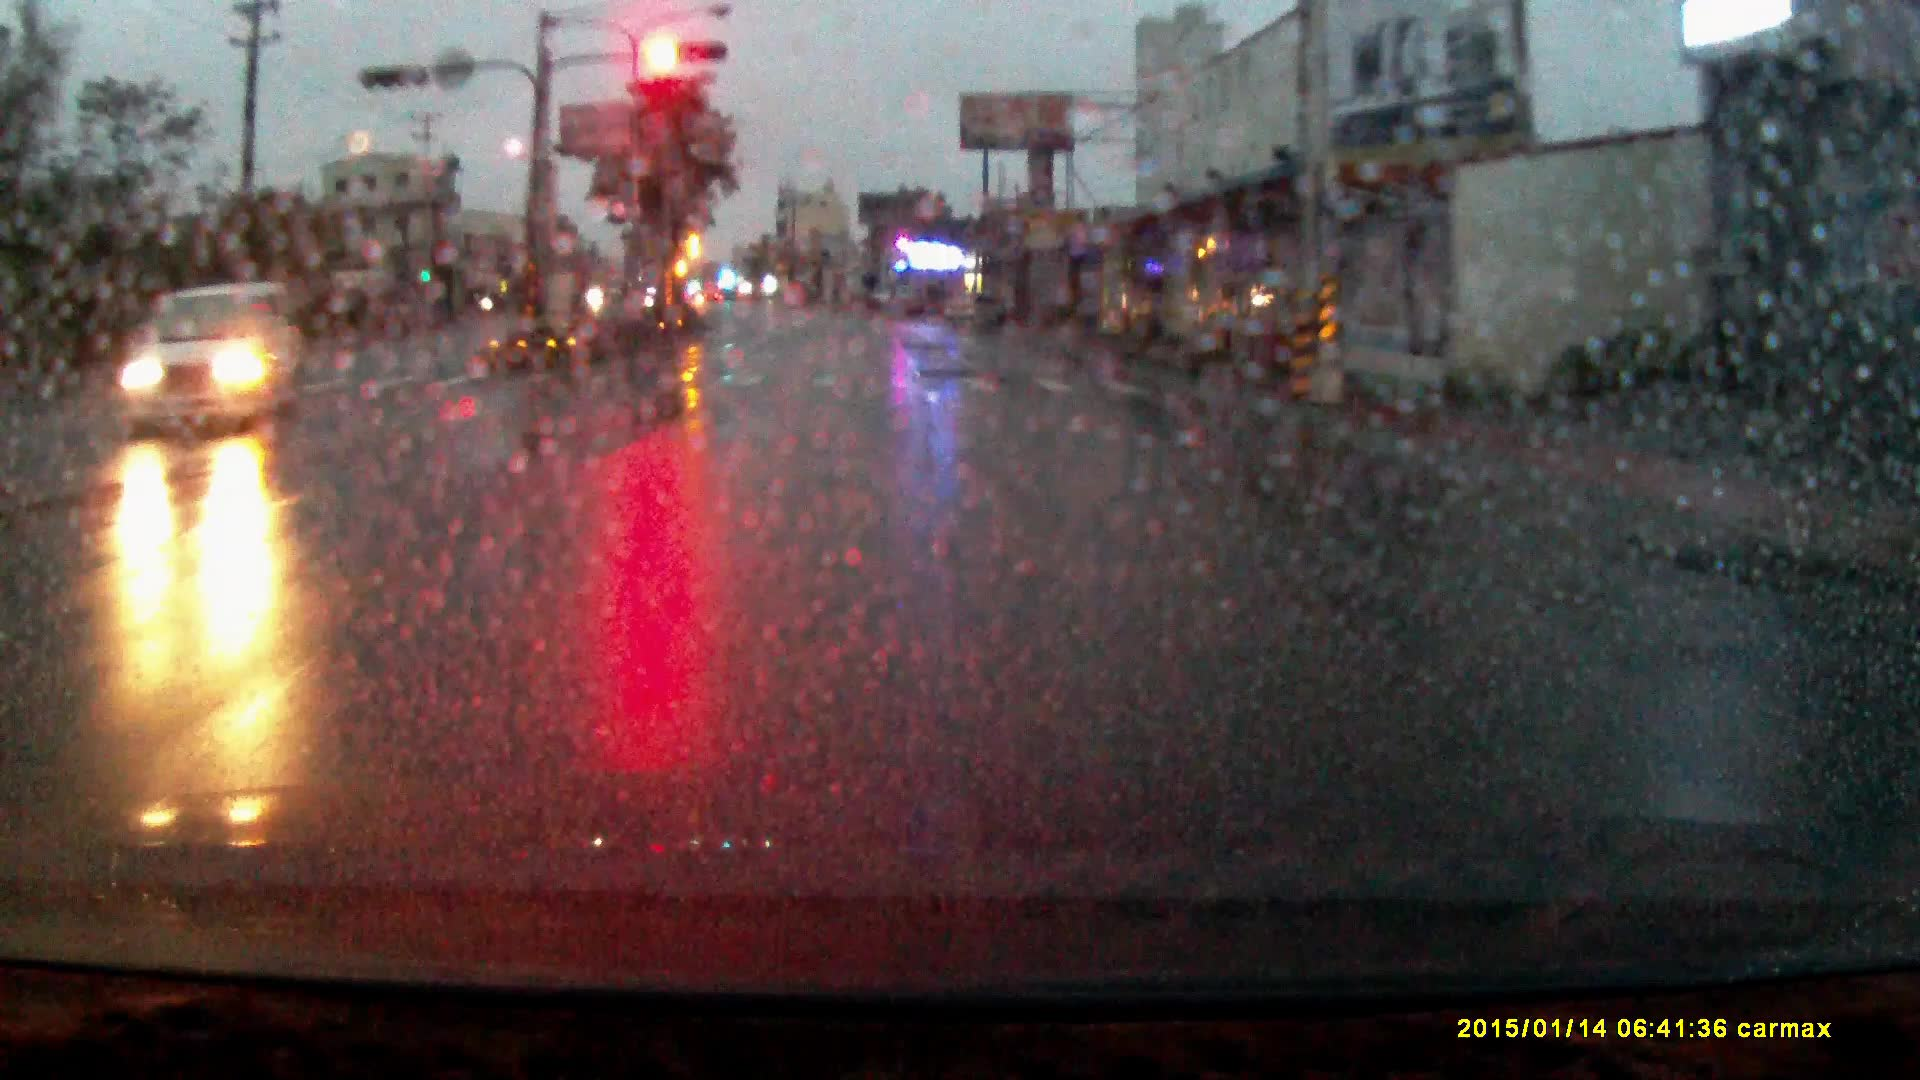vehicle: (108, 284, 301, 440)
